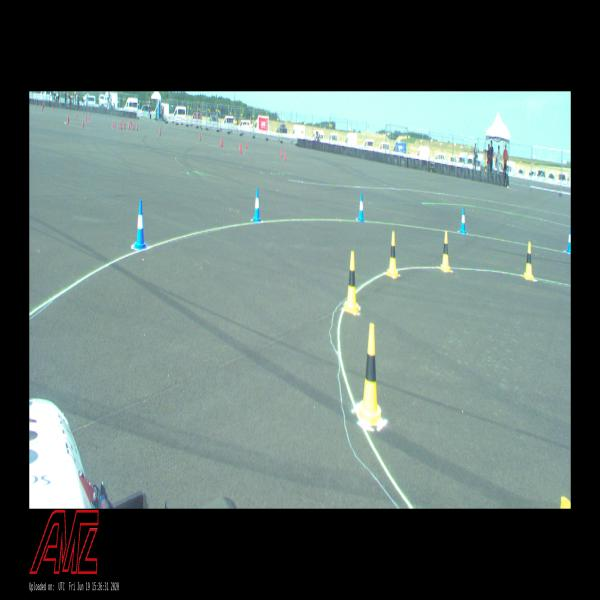blue_cone: (135, 200, 146, 248), (253, 188, 261, 222), (358, 194, 364, 222), (460, 208, 466, 234), (567, 227, 571, 252)
yellow_cone: (360, 324, 380, 424), (344, 251, 358, 312), (387, 231, 398, 278), (441, 231, 450, 271), (524, 242, 533, 279)
